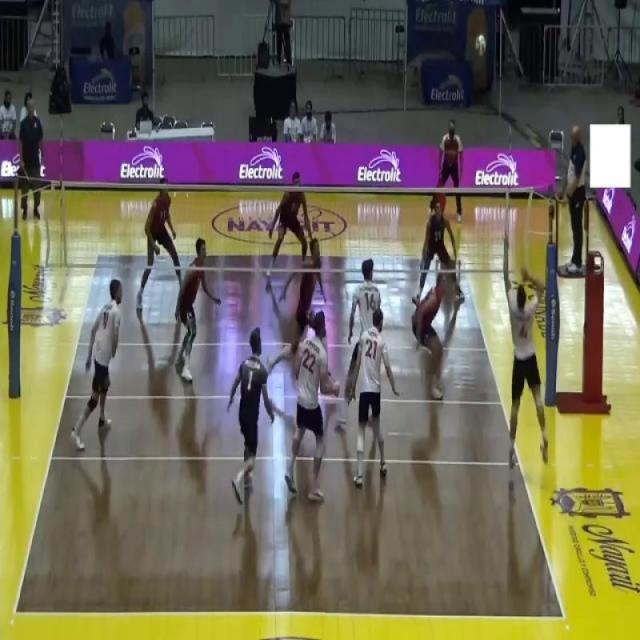volleyball: (474, 33, 487, 58)
